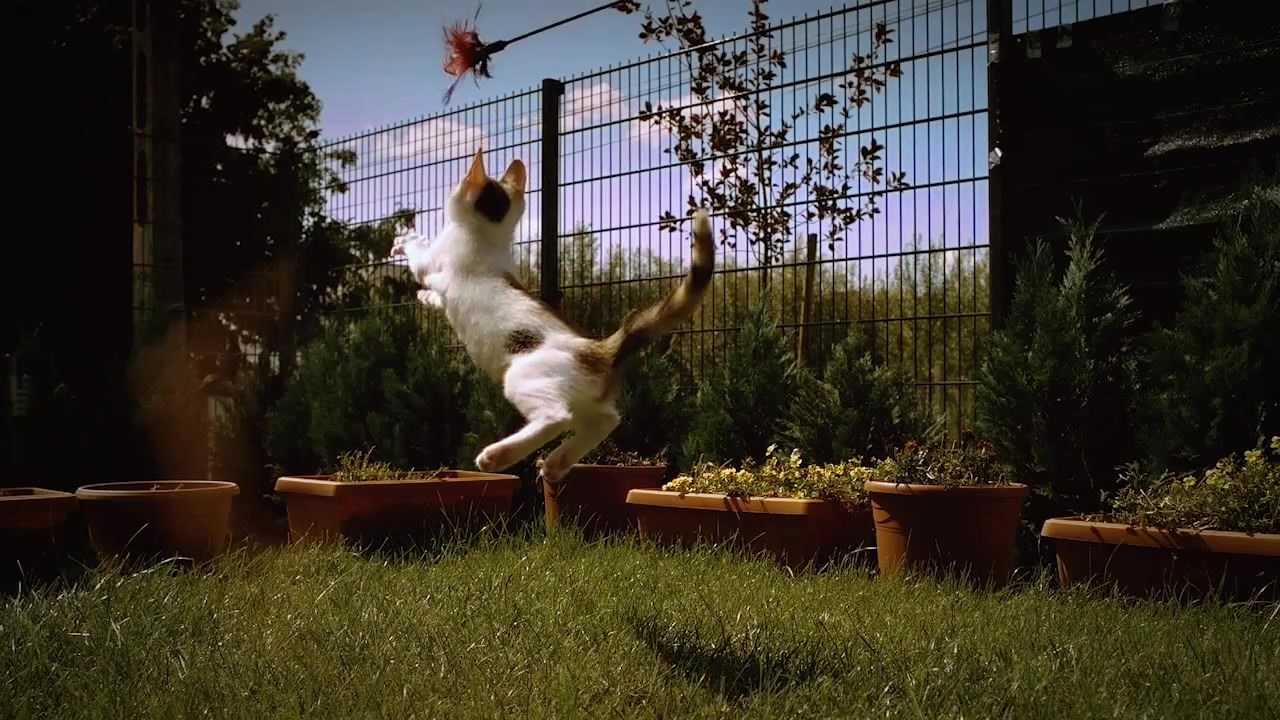cat: (388, 144, 720, 483)
